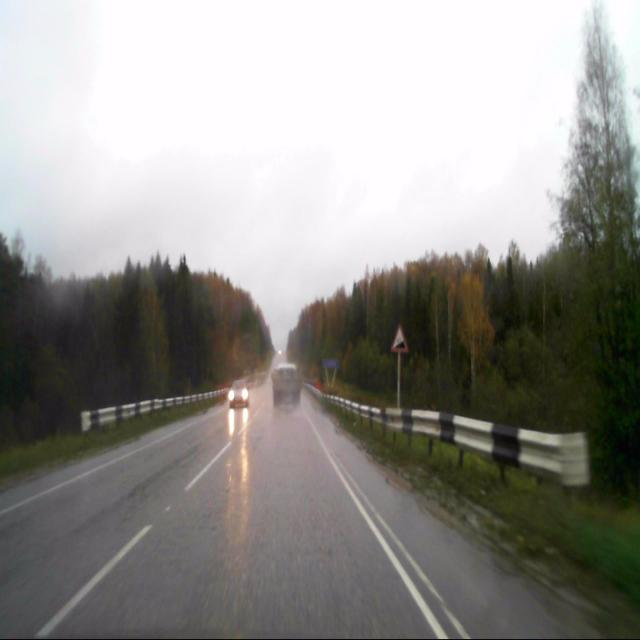object: (397, 356, 401, 411)
road sign: (391, 324, 408, 353)
